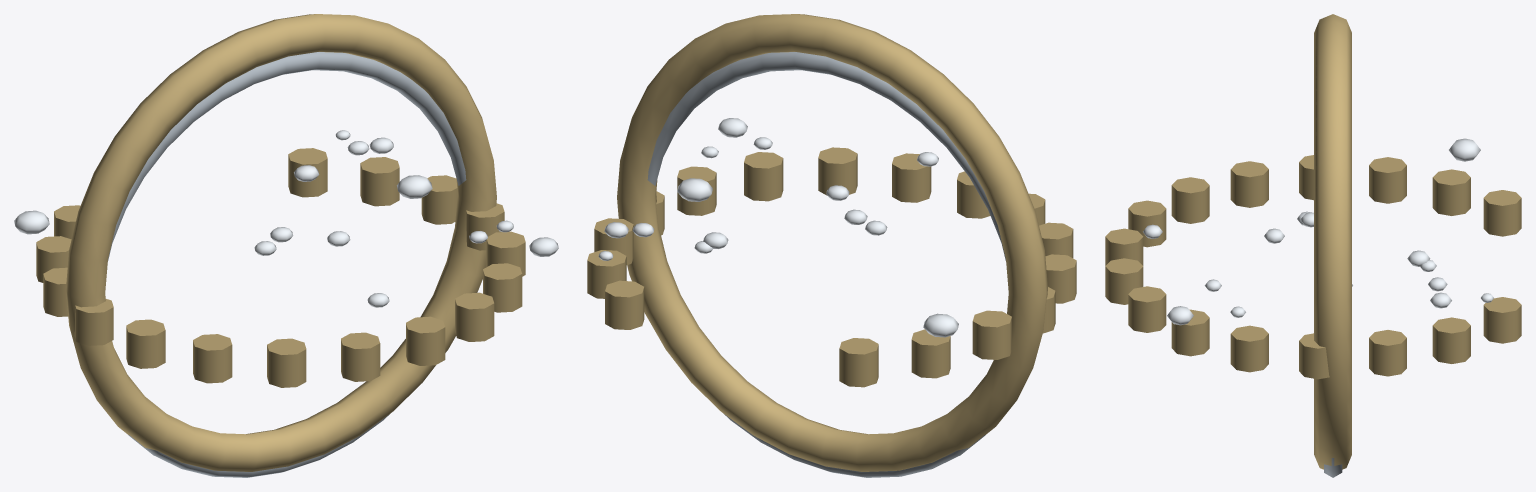
The model's file is restorer_coat_collar.glb.
3 views of the same model, side by side, from view 1: azimuth 30°, elevation 25°; view 2: azimuth 150°, elevation 25°; view 3: azimuth 270°, elevation 25° (orthographic). The views are drawn at different scales.
Visible parts, largest first — view 1: rs_brass, rs_steel, rs_brass*0.005, rs_brass*0.006, rs_brass*0.007, rs_brass*0.004, rs_brass*0.009, rs_brass*0.010, rs_brass*0.015, rs_brass*0.011, rs_brass*0.003, rs_brass*0.016 (+8 smaller); view 2: rs_brass, rs_steel, rs_brass*0.011, rs_brass*0.002, rs_brass*0.8, rs_brass*0.016, rs_brass*0.009, rs_brass*0.001, rs_brass*0.010, rs_brass*0.015, rs_brass*0.004, rs_brass*0.012 (+5 smaller); view 3: rs_brass, rs_brass*0.004, rs_brass*0.005, rs_brass*0.8, rs_brass*0.001, rs_brass*0.010, rs_brass*0.015, rs_brass*0.012, rs_brass*0.016, rs_brass*0.002, rs_brass*0.014, rs_brass*0.009 (+6 smaller).
Boxes of the visible parts, left/top/right/bottom form: rs_brass: left=66, top=14, right=496, bottom=471; rs_steel: left=108, top=52, right=466, bottom=477; rs_brass*0.005: left=193, top=334, right=232, bottom=383; rs_brass*0.006: left=267, top=338, right=306, bottom=387; rs_brass*0.007: left=341, top=332, right=380, bottom=381; rs_brass*0.004: left=126, top=319, right=165, bottom=368; rs_brass*0.009: left=406, top=316, right=445, bottom=365; rs_brass*0.010: left=455, top=292, right=494, bottom=341; rs_brass*0.015: left=360, top=157, right=399, bottom=206; rs_brass*0.011: left=483, top=263, right=522, bottom=312; rs_brass*0.003: left=74, top=299, right=113, bottom=345; rs_brass*0.016: left=288, top=148, right=327, bottom=197; rs_brass: left=617, top=14, right=1047, bottom=471; rs_steel: left=647, top=52, right=1005, bottom=477; rs_brass*0.011: left=744, top=152, right=783, bottom=201; rs_brass*0.002: left=972, top=310, right=1011, bottom=359; rs_brass*0.8: left=839, top=338, right=878, bottom=387; rs_brass*0.016: left=605, top=280, right=644, bottom=329; rs_brass*0.009: left=892, top=153, right=931, bottom=202; rs_brass*0.001: left=911, top=329, right=950, bottom=378; rs_brass*0.010: left=818, top=147, right=857, bottom=195; rs_brass*0.015: left=587, top=250, right=626, bottom=298; rs_brass*0.004: left=1045, top=254, right=1076, bottom=303; rs_brass*0.012: left=677, top=166, right=716, bottom=215; rs_brass: left=1314, top=14, right=1351, bottom=469; rs_brass*0.004: left=1230, top=161, right=1268, bottom=207; rs_brass*0.005: left=1171, top=177, right=1209, bottom=223; rs_brass*0.8: left=1483, top=190, right=1521, bottom=236; rs_brass*0.001: left=1432, top=169, right=1470, bottom=215; rs_brass*0.010: left=1128, top=286, right=1166, bottom=332; rs_brass*0.015: left=1432, top=317, right=1470, bottom=363; rs_brass*0.012: left=1230, top=325, right=1268, bottom=372; rs_brass*0.016: left=1483, top=297, right=1521, bottom=343; rs_brass*0.002: left=1369, top=157, right=1406, bottom=203; rs_brass*0.014: left=1369, top=330, right=1406, bottom=376; rs_brass*0.009: left=1105, top=258, right=1143, bottom=304.
Size of the model in its own units: 2.18 by 2.21 by 1.97.
